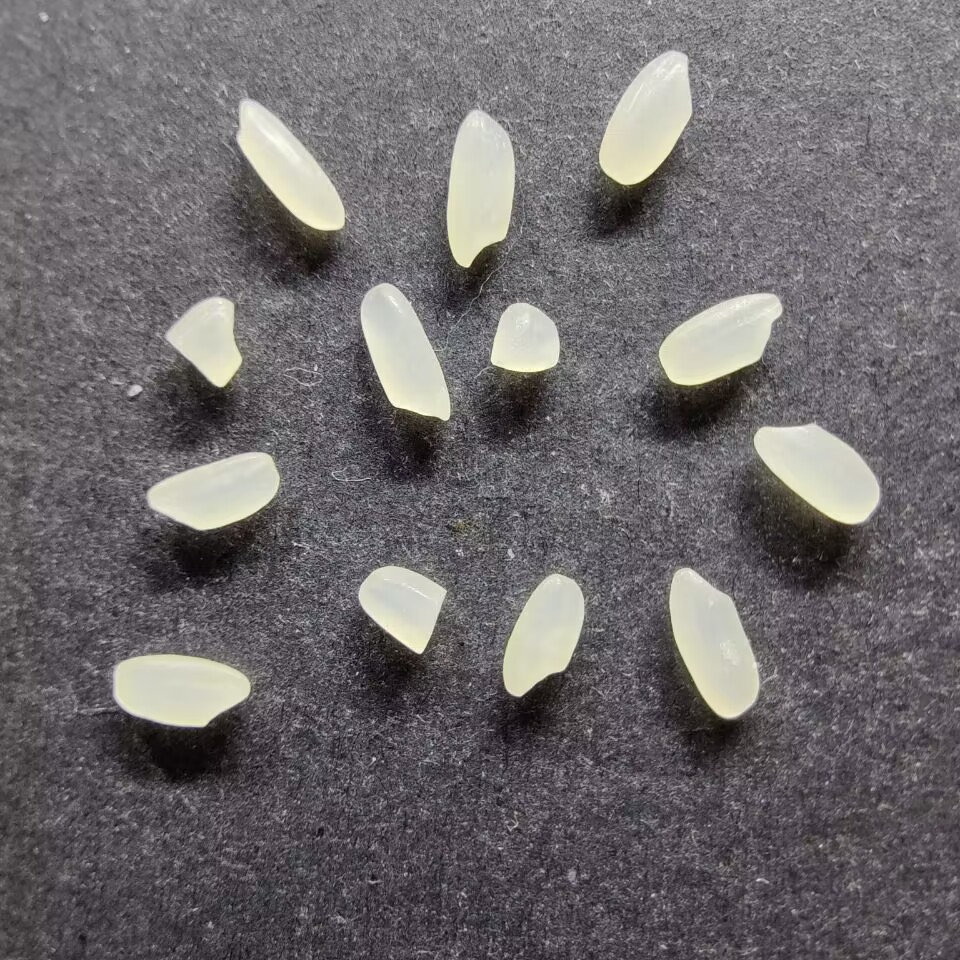broken: (357, 565, 446, 655), (165, 296, 242, 387), (490, 301, 559, 373)
rice: (234, 99, 346, 231), (668, 567, 759, 719), (597, 49, 693, 185), (359, 282, 452, 422), (752, 424, 880, 525), (657, 290, 782, 385), (445, 109, 515, 268), (146, 451, 279, 531), (501, 573, 585, 698), (112, 653, 250, 728)
